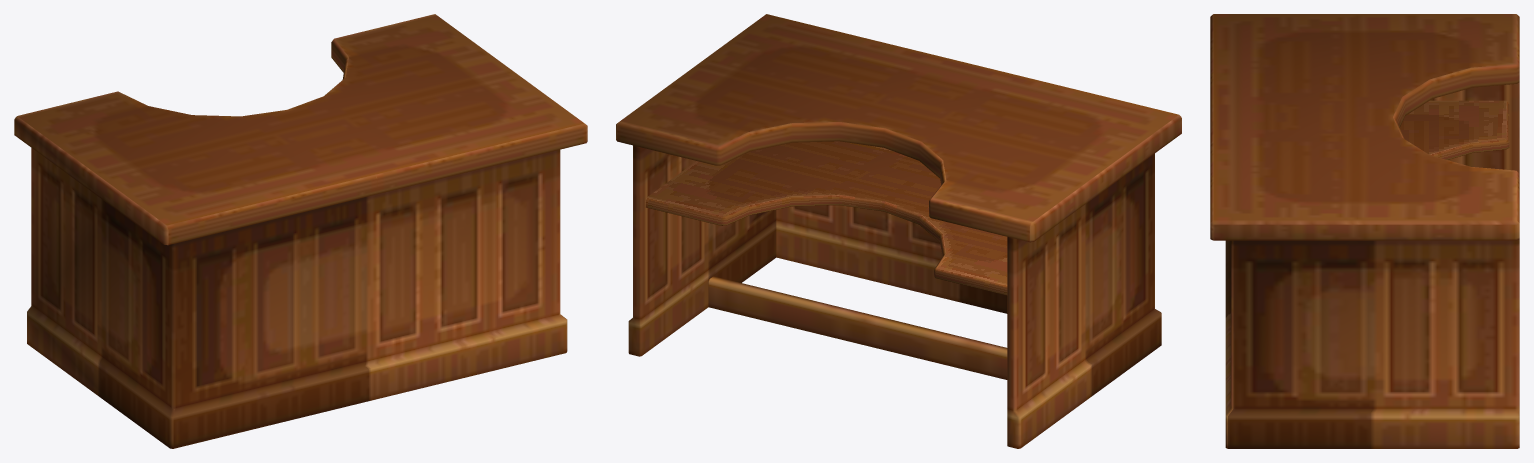
The model's file is int_sch_teachers_desk.dae.
3 views of the same model, side by side, from view 1: azimuth 30°, elevation 25°; view 2: azimuth 150°, elevation 25°; view 3: azimuth 270°, elevation 25° (orthographic). The views are drawn at different scales.
Parts seen in each view (by area): view 1: int_sch_teachers_desk; view 2: int_sch_teachers_desk; view 3: int_sch_teachers_desk.
Part boxes in pixels (x1,y1,x2,y2): int_sch_teachers_desk: (14, 14, 587, 448); int_sch_teachers_desk: (616, 14, 1181, 448); int_sch_teachers_desk: (1210, 14, 1519, 448).
Bounding box in the file's own units: 48 × 25 × 30.
Materials: 2 (2 with a texture image).
